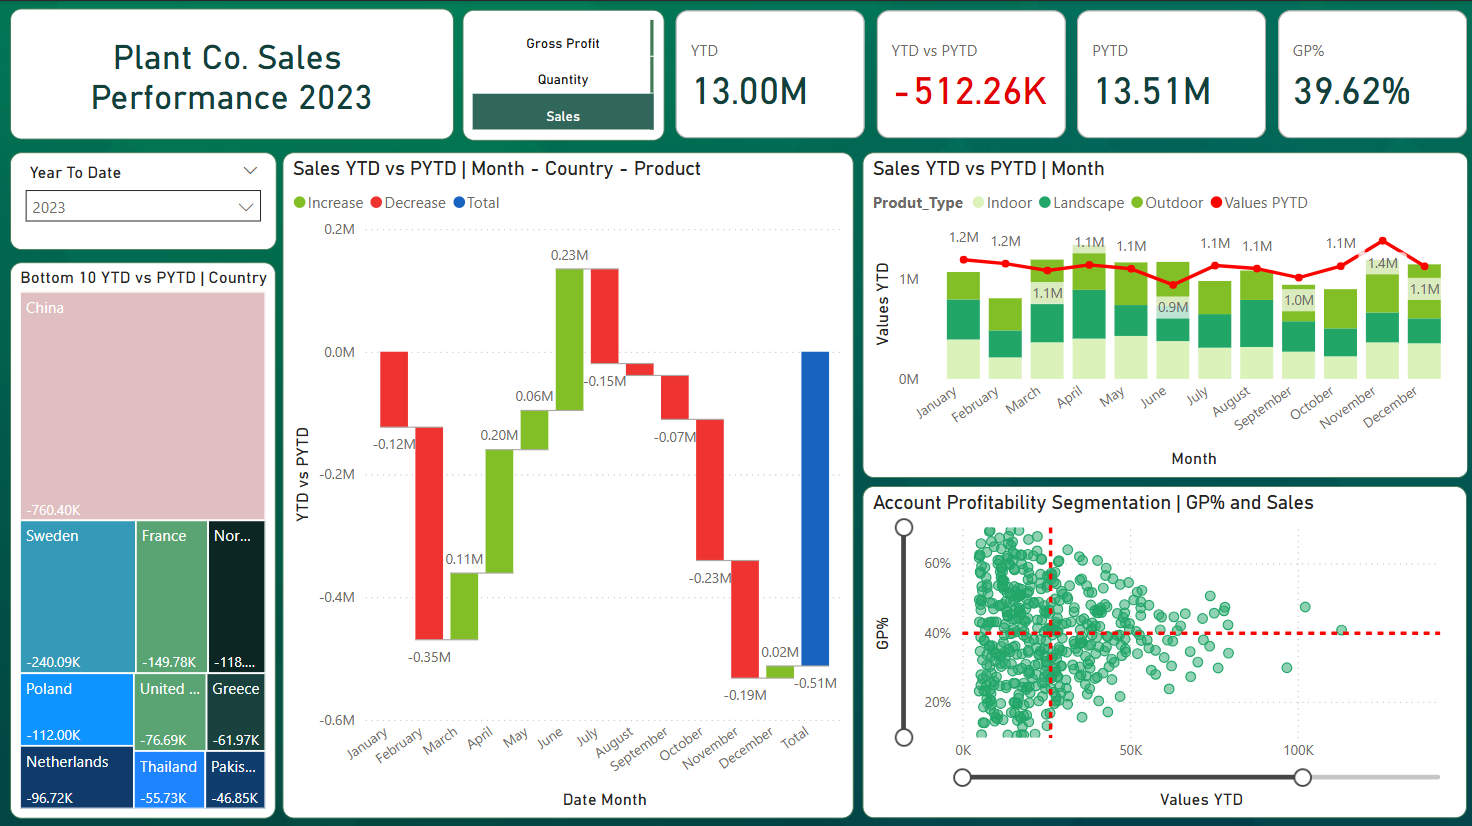

This screenshot's page, from the dashboard's own definition file:
{"tool":"powerbi","page":{"name":"Page 1","canvas":[1280,720],"ordinal":0},"visuals":[{"type":"advancedSlicerVisual","fields":{"Values":["slc_values.Values"]},"box":[400.7,7.1,175,113.6],"z":0},{"type":"slicer","fields":{"Values":["Dim_Date.Date.Variation.Date Hierarchy.Year"]},"box":[8.3,131,231.1,84.6],"z":1000},{"type":"treemap","title":"Bottom 10 YTD vs PYTD | Country","fields":{"Group":["Dim_Accounts.Country"],"Values":["_Measures.YTD vs PYTD"]},"box":[8.9,226.1,230.6,482.8],"z":2000},{"type":"waterfallChart","fields":{"Y":["_Measures.YTD vs PYTD"],"Category":["Dim_Date.Date.Variation.Date Hierarchy.Month","Dim_Accounts.Country","Dim_Product.Produt_Type","Dim_Product.Product_Name"]},"box":[245.4,131,495.6,577.8],"z":3000},{"type":"lineStackedColumnComboChart","fields":{"Y":["_Measures.Switch_YTD"],"Y2":["_Measures.Switch_PYTD"],"Category":["Dim_Date.Date.Variation.Date Hierarchy.Month"],"Series":["Dim_Product.Produt_Type"]},"box":[747.2,131.1,525.6,282.2],"z":4000},{"type":"scatterChart","fields":{"Y":["_Measures.GP%"],"X":["_Measures.Switch_YTD"],"Category":["Dim_Accounts.Account"]},"box":[748.1,420.5,524.2,288.3],"z":5000},{"type":"card","fields":{"Values":["_Measures._report title"]},"box":[8.8,6.2,385,113.8],"z":6000},{"type":"cardVisual","fields":{"Data":["_Measures.YearToDate_Sales","_Measures.YTD vs PYTD","_Measures.PYTD_Sales","_Measures.GP%"]},"box":[580.9,3.6,699.1,121.8],"z":7000}]}

Visuals, with their boxes in screenshot pixels (x1, y1, x2, y2), scaled from the page's 1280x720 canvas onto the 1472x826 screenshot:
advancedSlicerVisual - slc_values.Values: <region>461, 8, 662, 138</region>
slicer - Dim_Date.Date.Variation.Date Hierarchy.Year: <region>10, 150, 275, 247</region>
"Bottom 10 YTD vs PYTD | Country" treemap: <region>10, 259, 275, 813</region>
waterfallChart - _Measures.YTD vs PYTD x Dim_Date.Date.Variation.Date Hierarchy.Month: <region>282, 150, 852, 813</region>
lineStackedColumnComboChart - _Measures.Switch_YTD x _Measures.Switch_PYTD: <region>859, 150, 1464, 474</region>
scatterChart - _Measures.GP% x _Measures.Switch_YTD: <region>860, 482, 1463, 813</region>
card - _Measures._report title: <region>10, 7, 453, 138</region>
cardVisual - _Measures.YearToDate_Sales x _Measures.YTD vs PYTD: <region>668, 4, 1471, 144</region>
